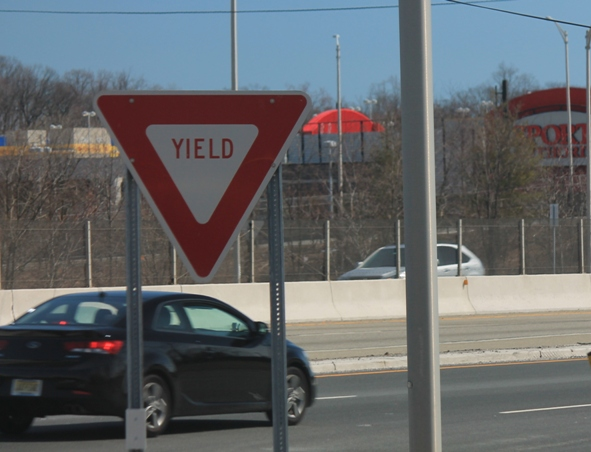yield_sign: (90, 89, 313, 282)
